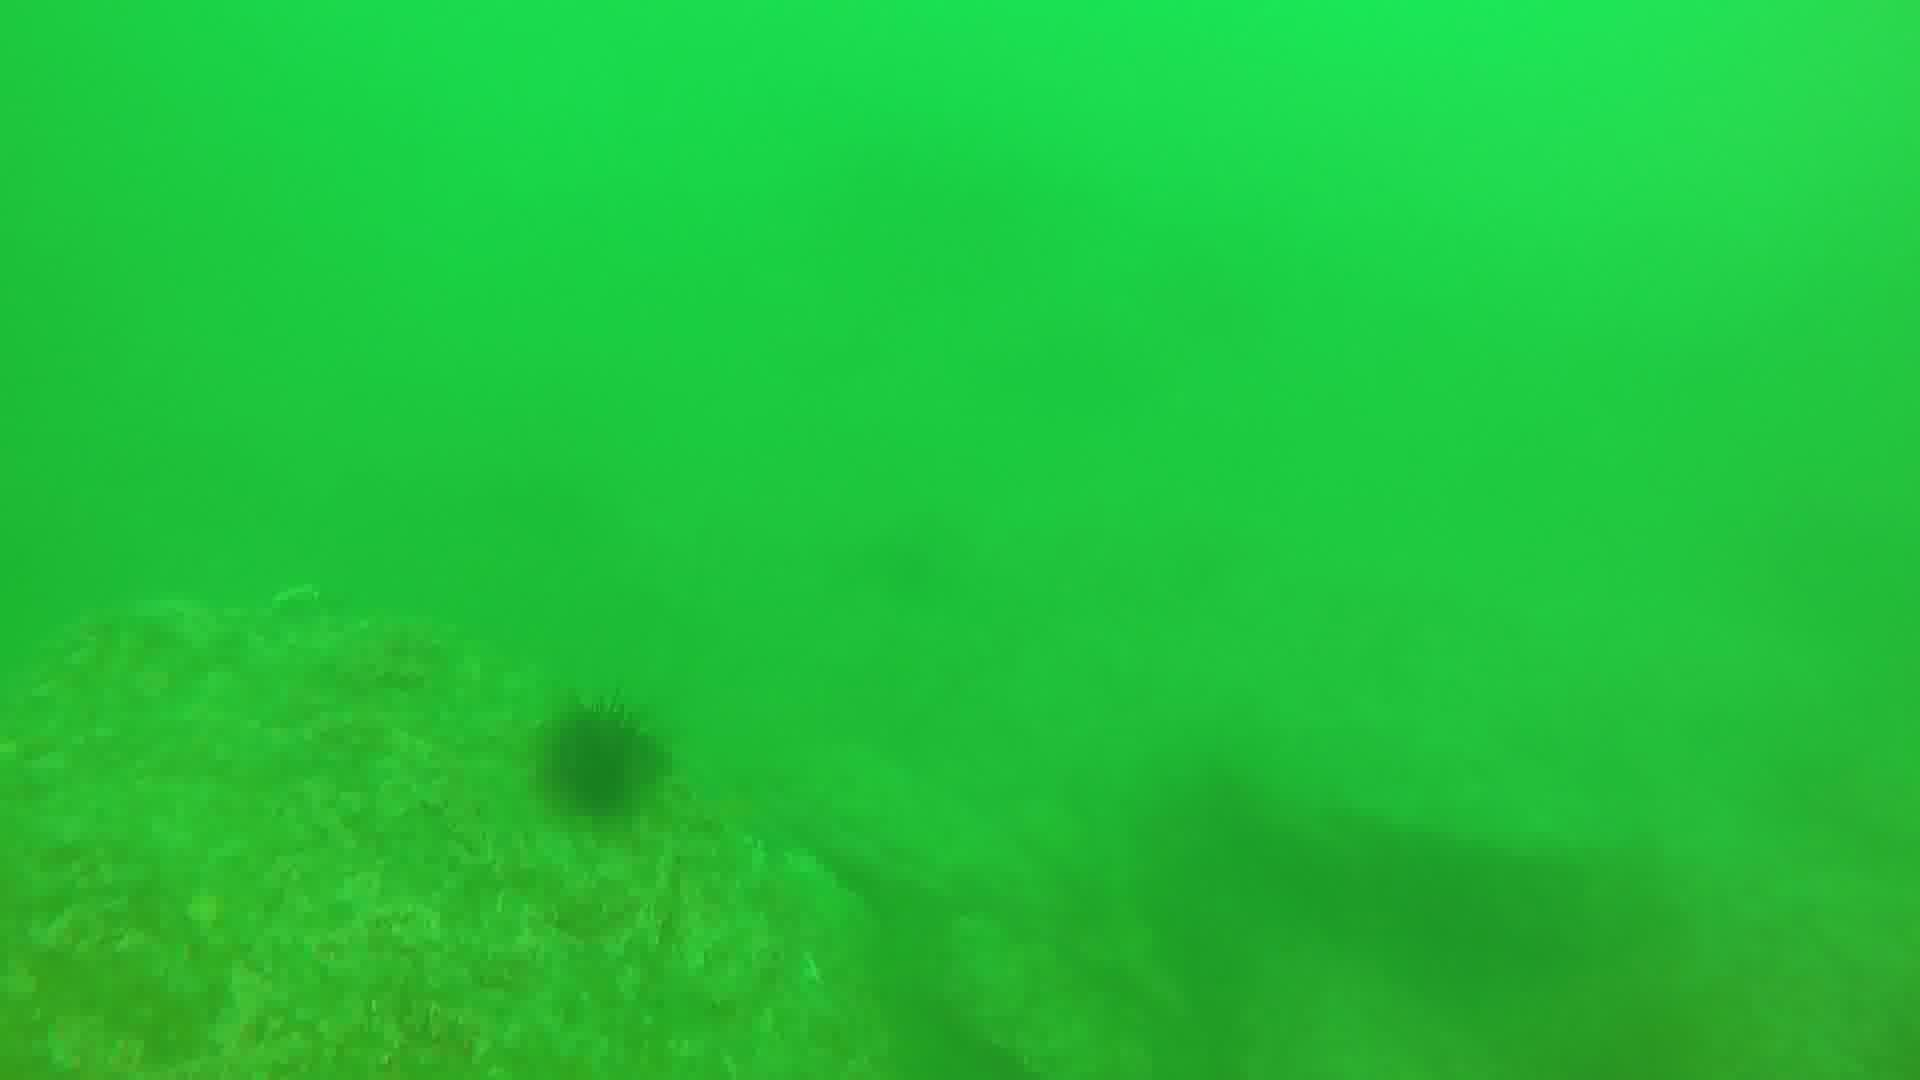echinus: (542, 702, 671, 828)
